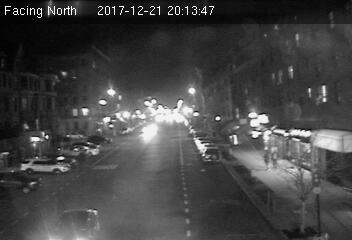car: (201, 147, 222, 163)
